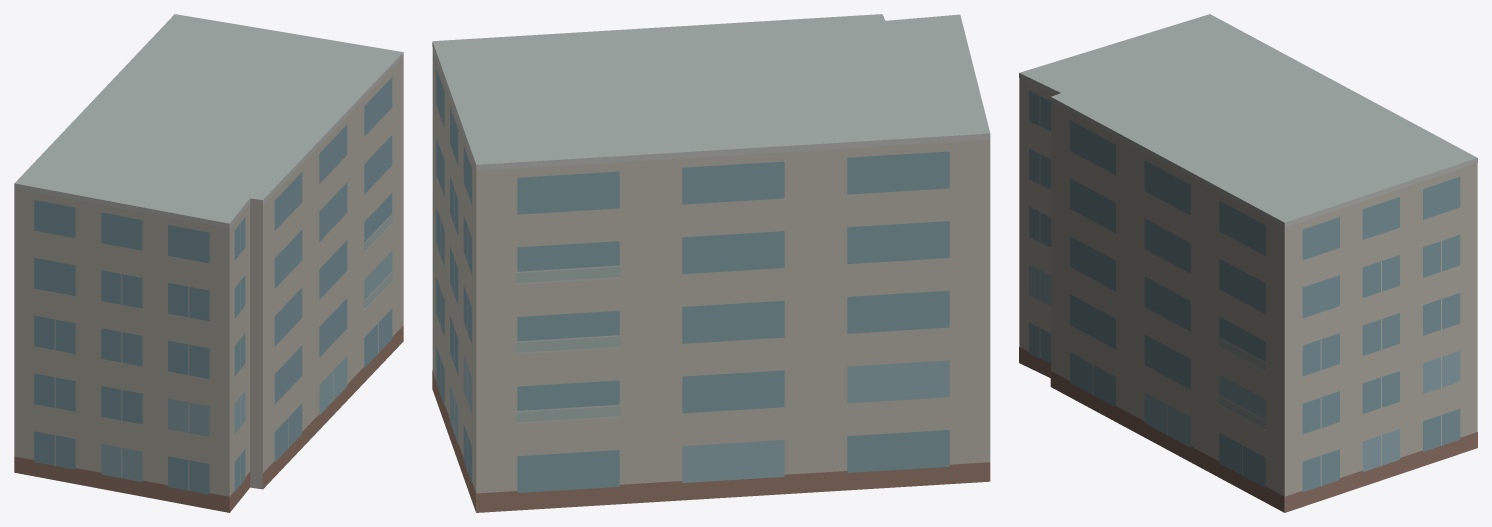
The model's file is survey-upis-32740711.glb.
3 views of the same model, side by side, from view 1: azimuth 30°, elevation 25°; view 2: azimuth 150°, elevation 25°; view 3: azimuth 270°, elevation 25° (orthographic). The views are drawn at different scales.
Visible parts, largest first — view 1: survey-upis-32740711.tmp; view 2: survey-upis-32740711.tmp; view 3: survey-upis-32740711.tmp.
Boxes of the visible parts, x1,y1,x2,y2 form: survey-upis-32740711.tmp: (14,14,403,512); survey-upis-32740711.tmp: (432,14,990,512); survey-upis-32740711.tmp: (1019,14,1477,512).
Size of the model in its own units: 21.68 by 14.05 by 20.13.
